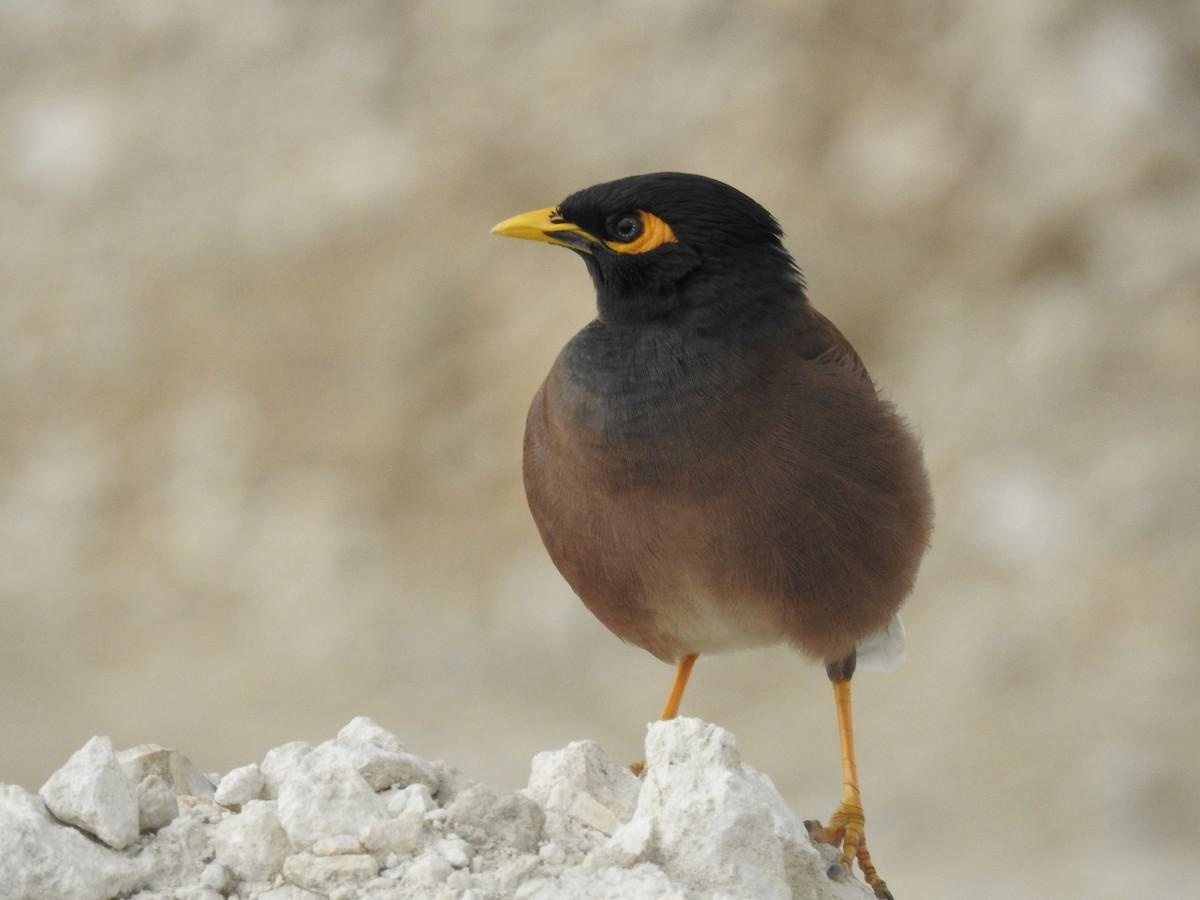myna: (480, 136, 953, 828)
